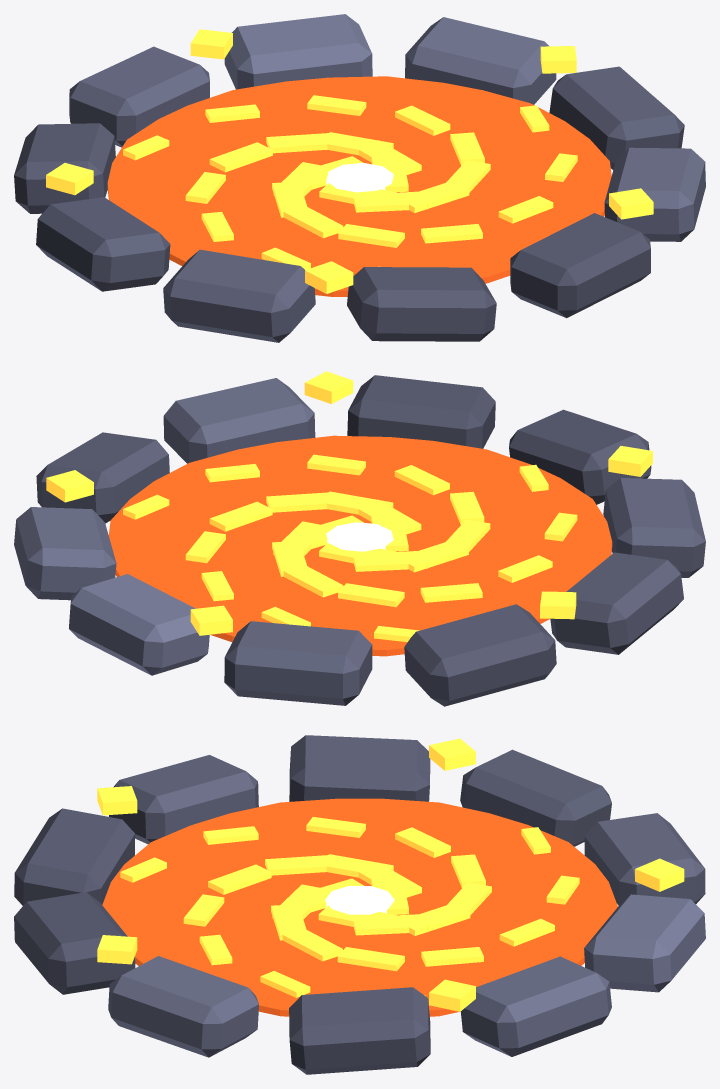
File: portal_orange.glb
The picture shows the model from 3 angles, top to bottom: view 1: azimuth 30°, elevation 25°; view 2: azimuth 150°, elevation 25°; view 3: azimuth 270°, elevation 25°; orthographic projection.
Visible parts, largest first — view 1: ring, swirl; view 2: ring, swirl; view 3: ring, swirl.
Part boxes in pixels (x1,y1,x2,y2): ring: [14, 14, 705, 342]; swirl: [107, 76, 611, 296]; ring: [14, 371, 705, 706]; swirl: [108, 435, 612, 656]; ring: [14, 735, 705, 1074]; swirl: [102, 798, 617, 1016].
Size of the model in its own units: 0.9933 by 0.1063 by 0.9925.
